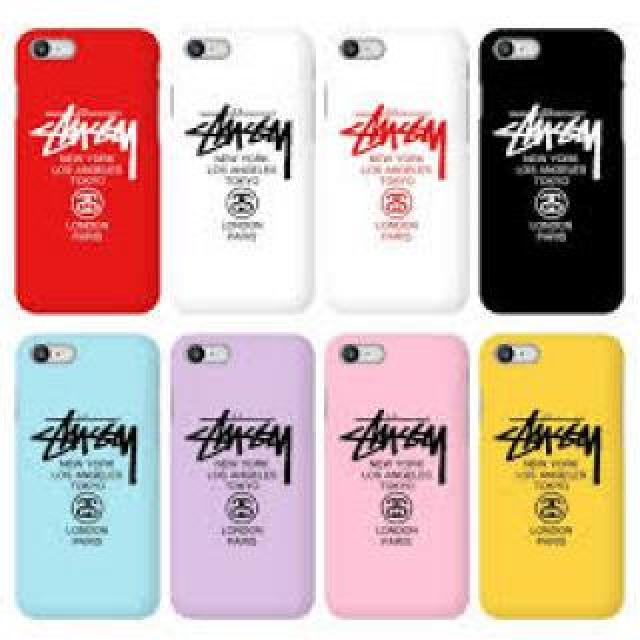smart phone: (480, 22, 635, 325), (5, 335, 162, 630), (13, 18, 164, 322), (322, 32, 476, 323), (177, 7, 318, 318), (480, 326, 625, 626), (170, 332, 318, 625), (333, 335, 472, 632)
